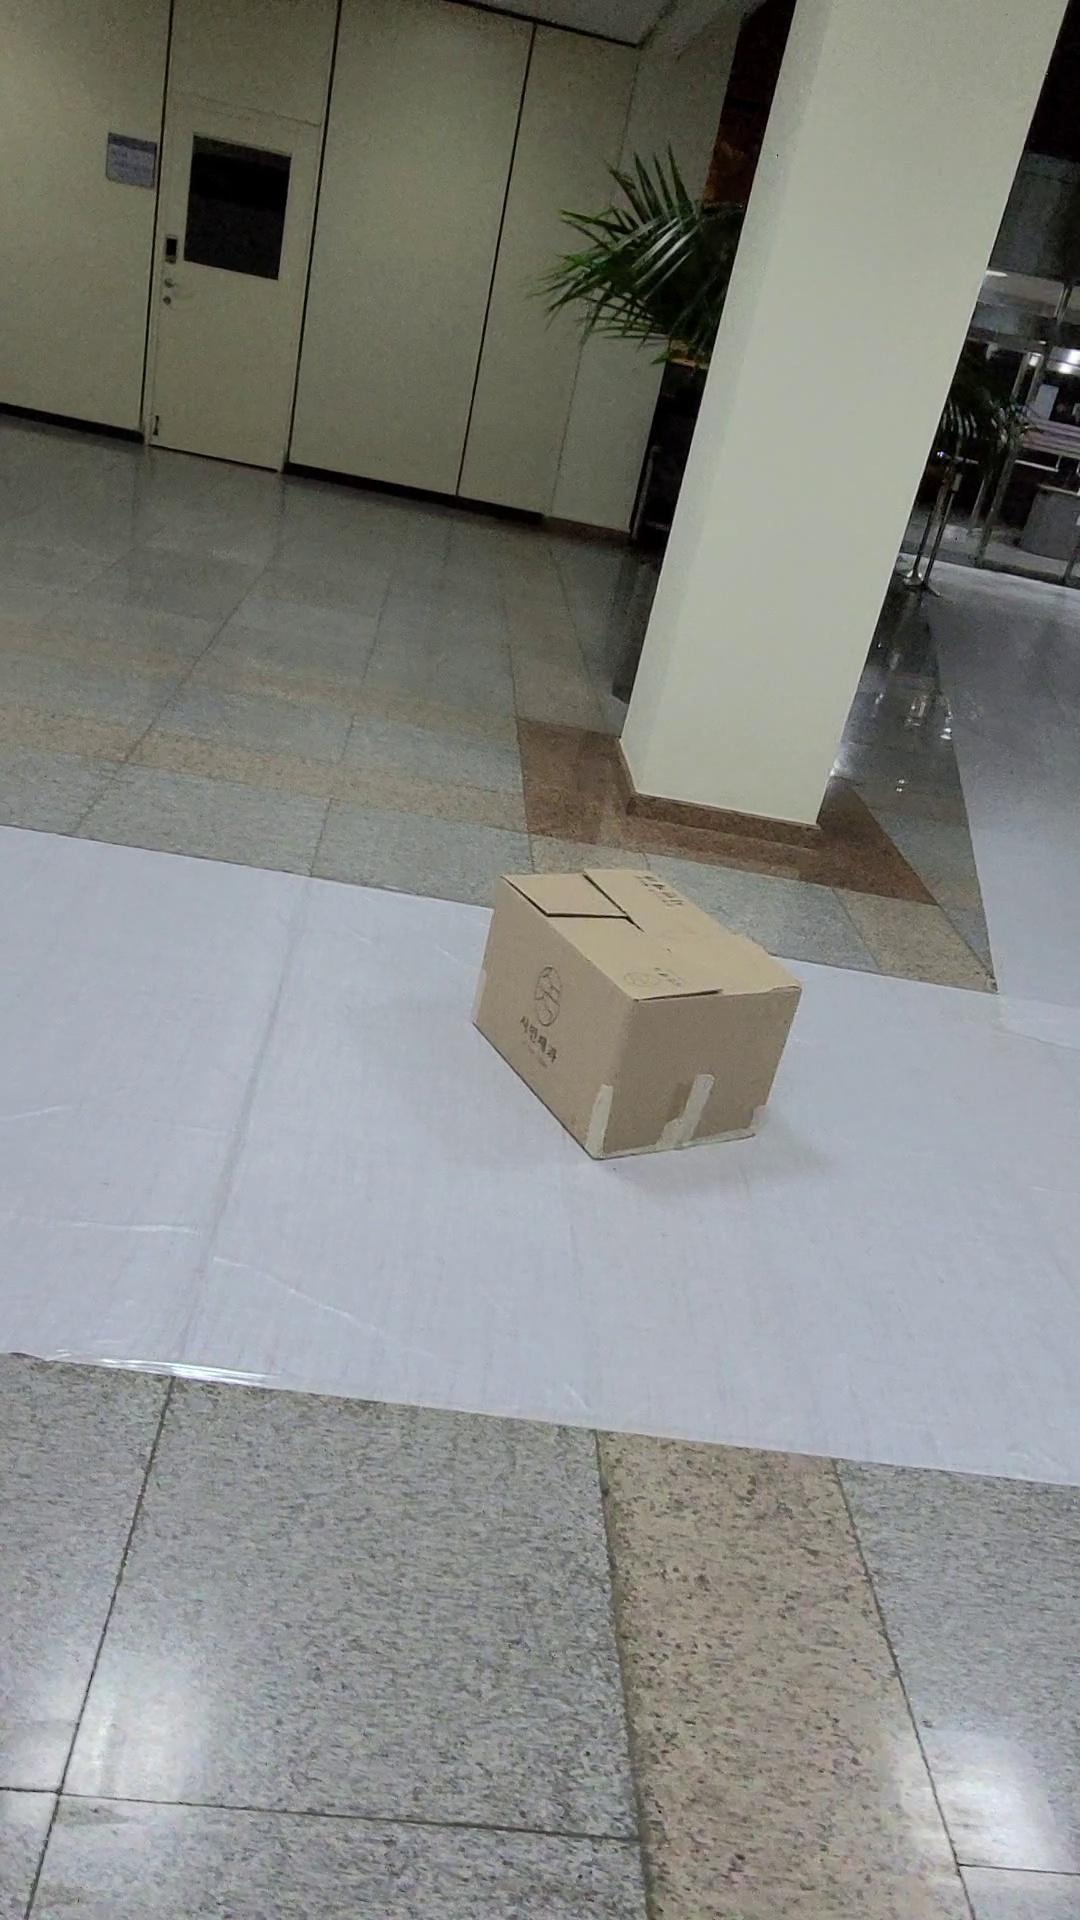Box: (431, 833, 835, 1200)
